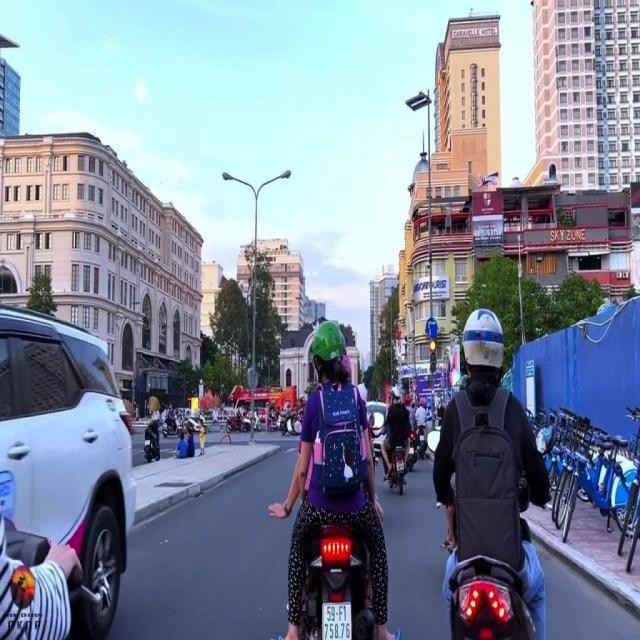khac: (426, 318, 437, 338)
